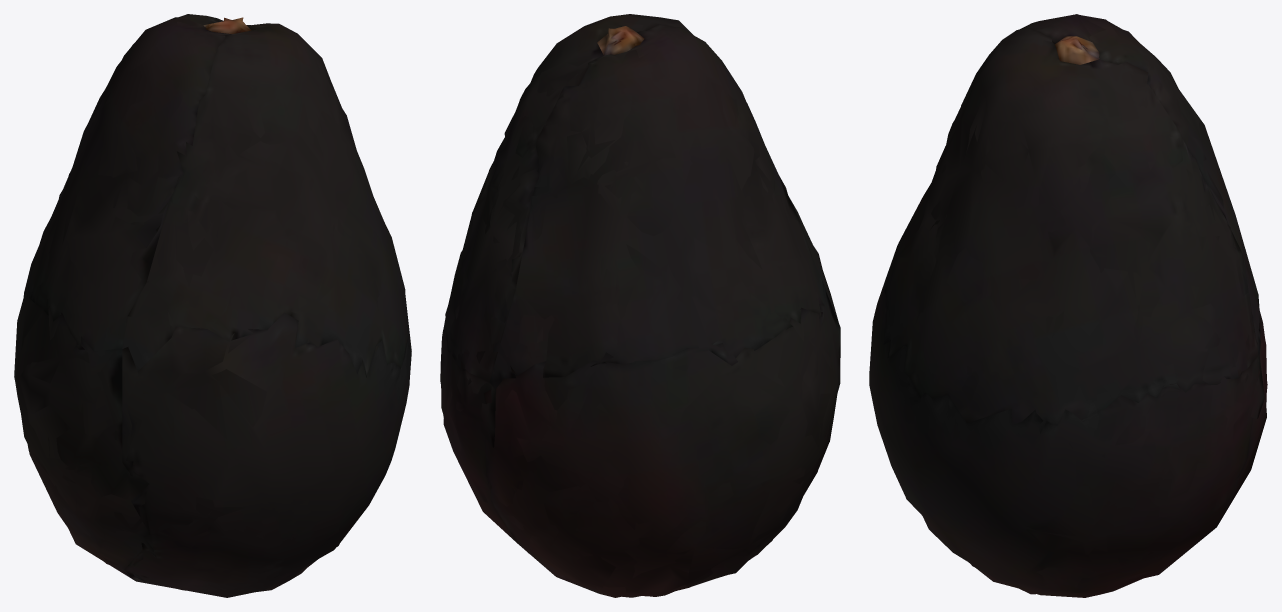
File: imp-avocados.glb
The picture shows the model from 3 angles, left to right: view 1: azimuth 30°, elevation 25°; view 2: azimuth 150°, elevation 25°; view 3: azimuth 270°, elevation 25°; orthographic projection.
Parts seen in each view (by area): view 1: food_avocado_01 (×3); view 2: food_avocado_01 (×3); view 3: food_avocado_01 (×3).
Boxes of the visible parts, <box> form: food_avocado_01 (×3): <box>14,14,411,597</box>; food_avocado_01 (×3): <box>440,14,840,597</box>; food_avocado_01 (×3): <box>869,14,1267,597</box>.
Bounding box in the file's own units: 0.0665 × 0.1 × 0.0661.
Materials: 1 (1 with a texture image).
